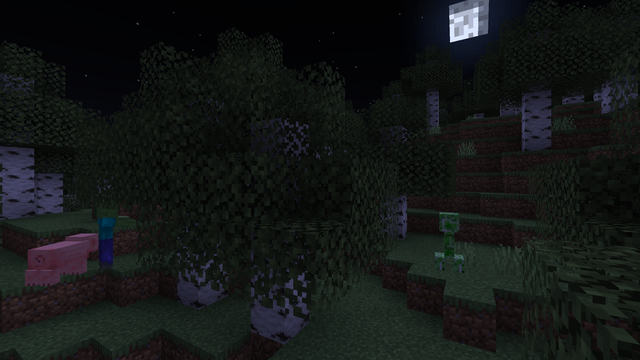cochons: (30, 238, 88, 286)
creepers: (436, 209, 459, 273)
zombies: (89, 216, 122, 271)
